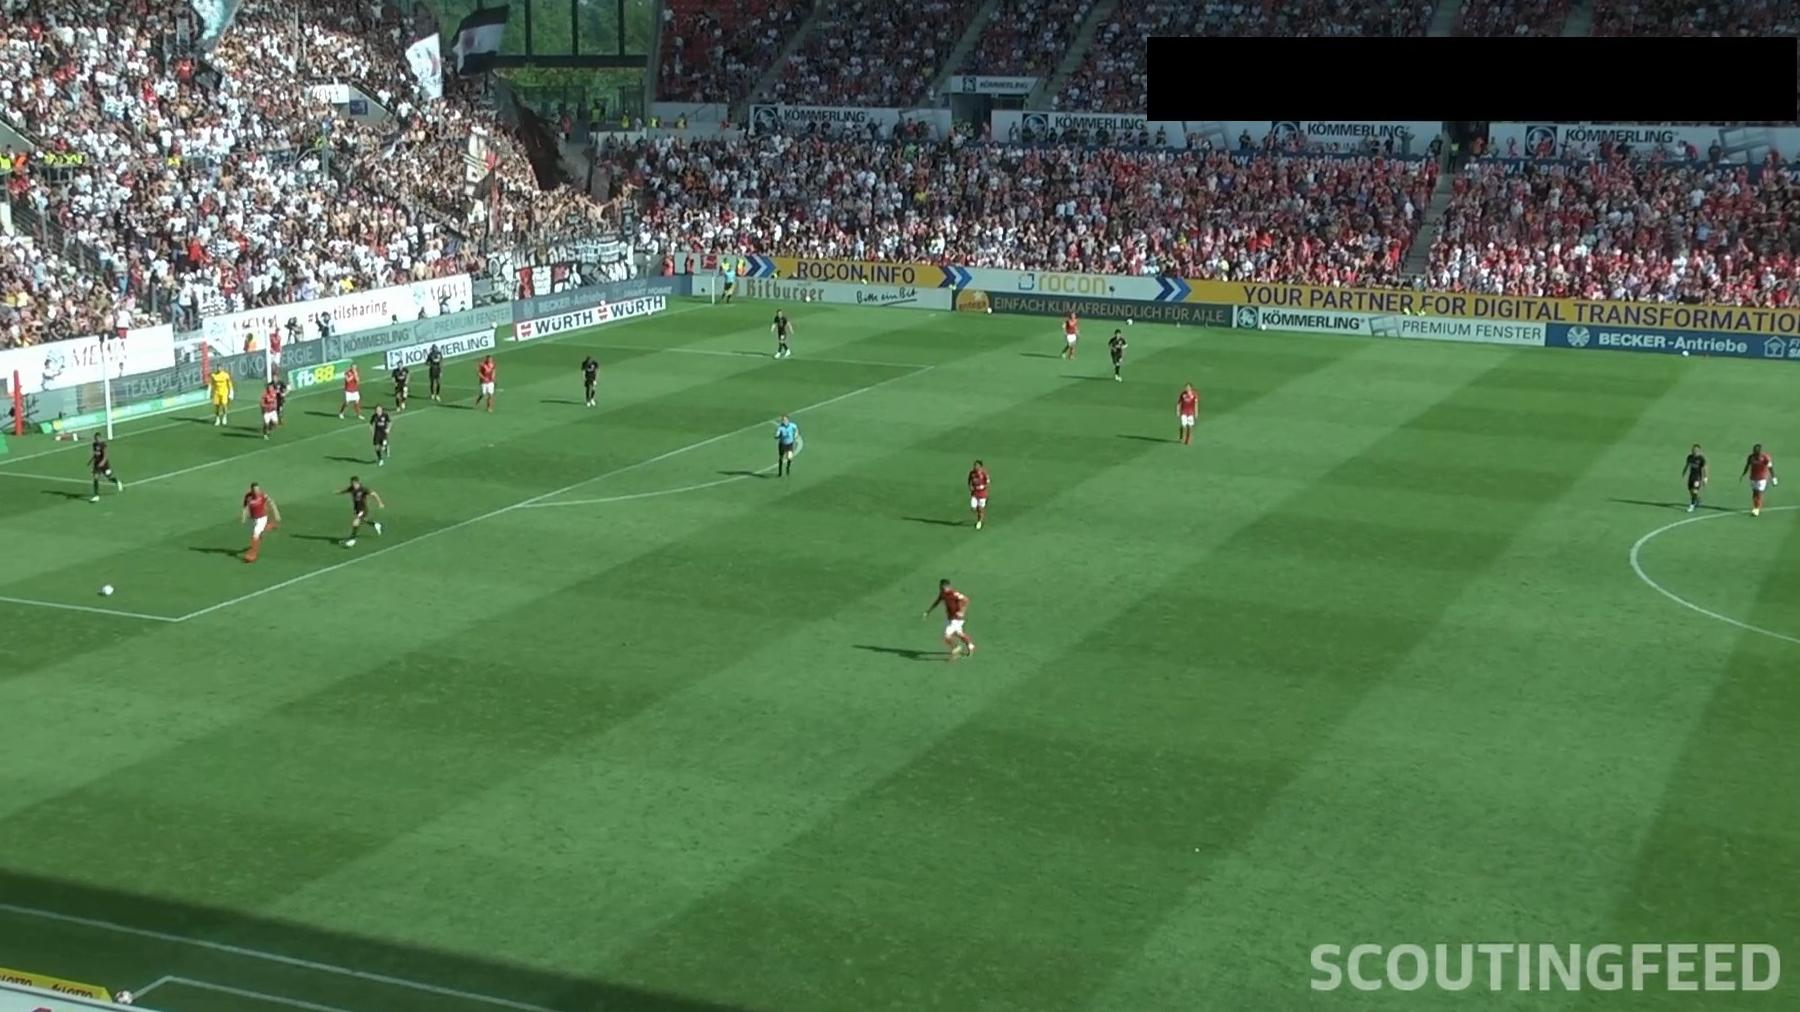ball: (101, 583, 114, 596)
